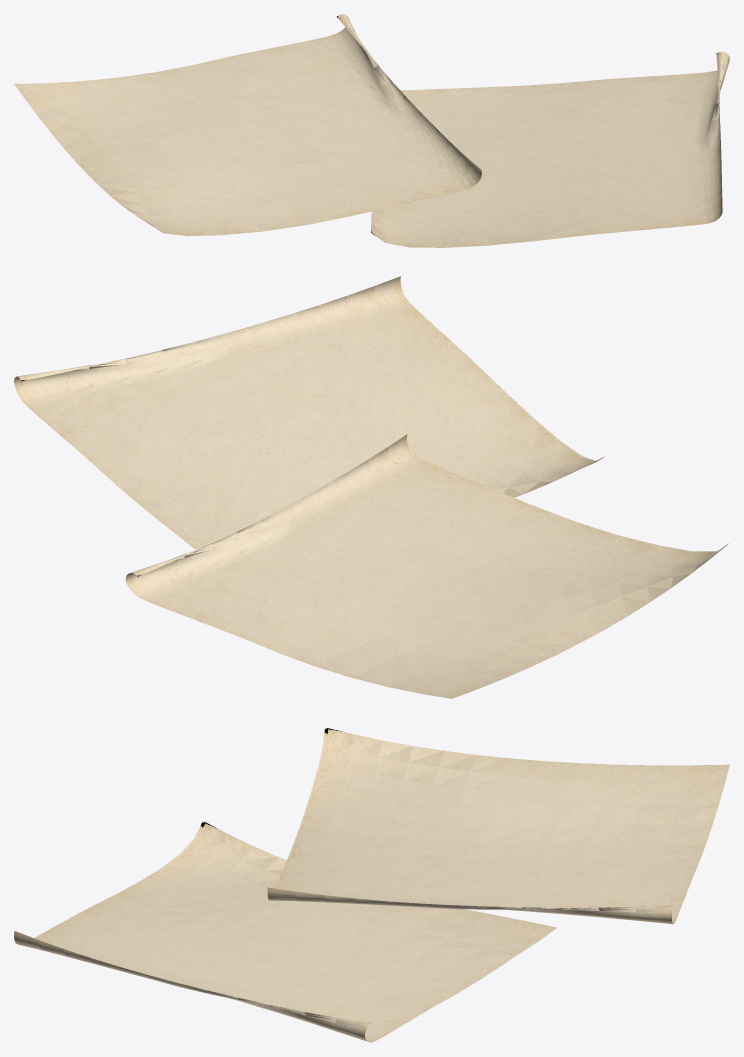
File: SM_Papers.fbx
The picture shows the model from 3 angles, top to bottom: view 1: azimuth 30°, elevation 25°; view 2: azimuth 150°, elevation 25°; view 3: azimuth 270°, elevation 25°; orthographic projection. The views are drawn at different scales.
Parts seen in each view (by area): view 1: foaie1_export, foaie2_export; view 2: foaie1_export, foaie2_export; view 3: foaie1_export, foaie2_export.
Part boxes in pixels (box(x1,y1,x2,y2)): foaie1_export: box(14, 14, 481, 236); foaie2_export: box(371, 51, 729, 247); foaie1_export: box(125, 434, 728, 698); foaie2_export: box(14, 276, 604, 549); foaie1_export: box(267, 727, 729, 924); foaie2_export: box(14, 821, 556, 1042).
Size of the model in its own units: 0.4015 by 0.0323 by 0.3864.
